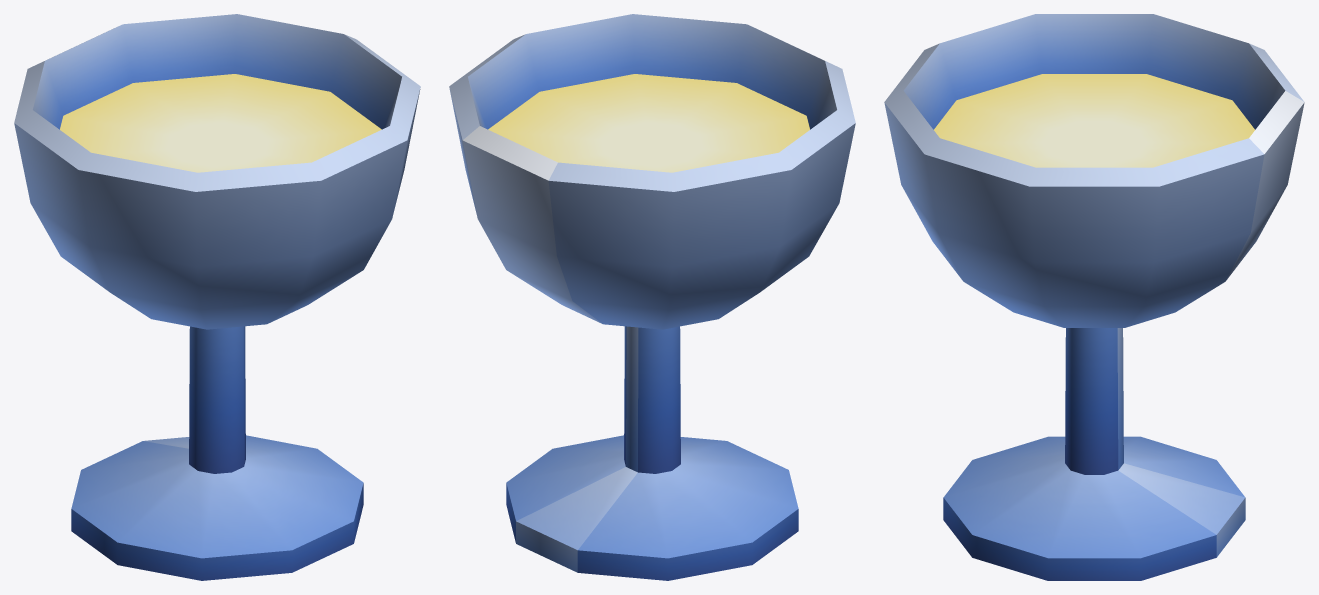
Rendered from m_BerlinerWeisseBeer01.fbx.
3 views of the same model, side by side, from view 1: azimuth 30°, elevation 25°; view 2: azimuth 150°, elevation 25°; view 3: azimuth 270°, elevation 25° (orthographic).
Parts seen in each view (by area): view 1: m_BerlinerWeisseBeer01; view 2: m_BerlinerWeisseBeer01; view 3: m_BerlinerWeisseBeer01.
Boxes of the visible parts, x1=… form: m_BerlinerWeisseBeer01: x1=14, y1=14, x2=420, y2=580; m_BerlinerWeisseBeer01: x1=449, y1=14, x2=855, y2=580; m_BerlinerWeisseBeer01: x1=884, y1=14, x2=1304, y2=580.
Bounding box in the file's own units: 15.89 × 18.83 × 16.7.
